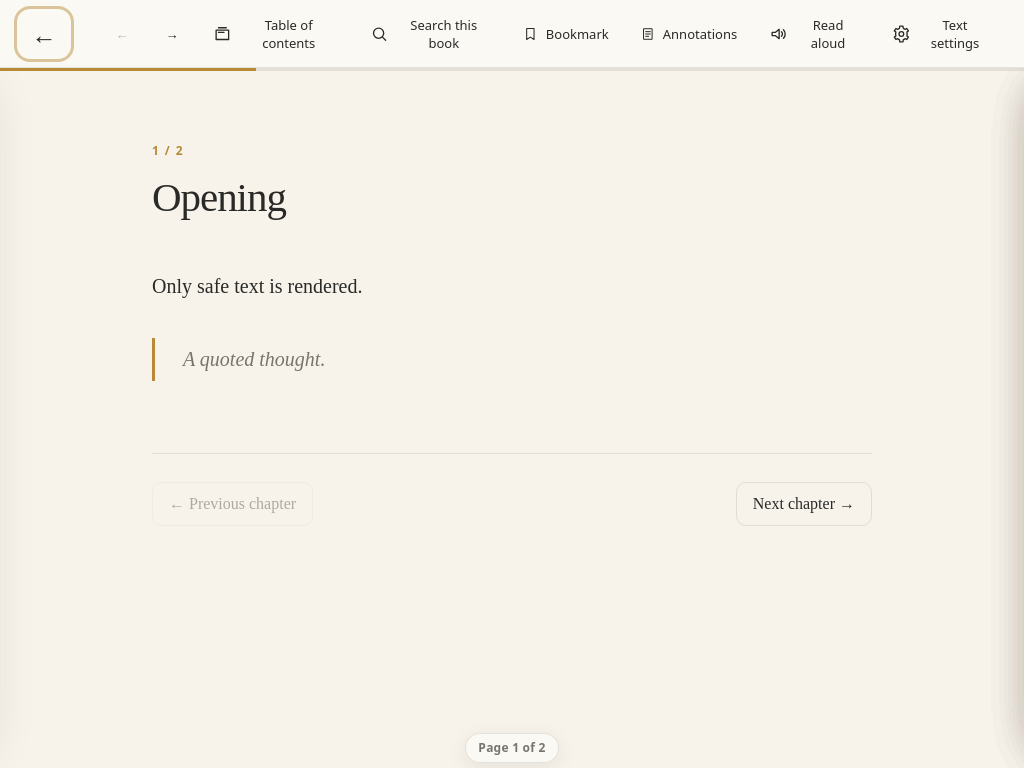
Test: ReaderScreen › hides cloud providers when credentials cannot be protected
Click the button "Read aloud".
click(815, 34)  # box [756,12,873,56]
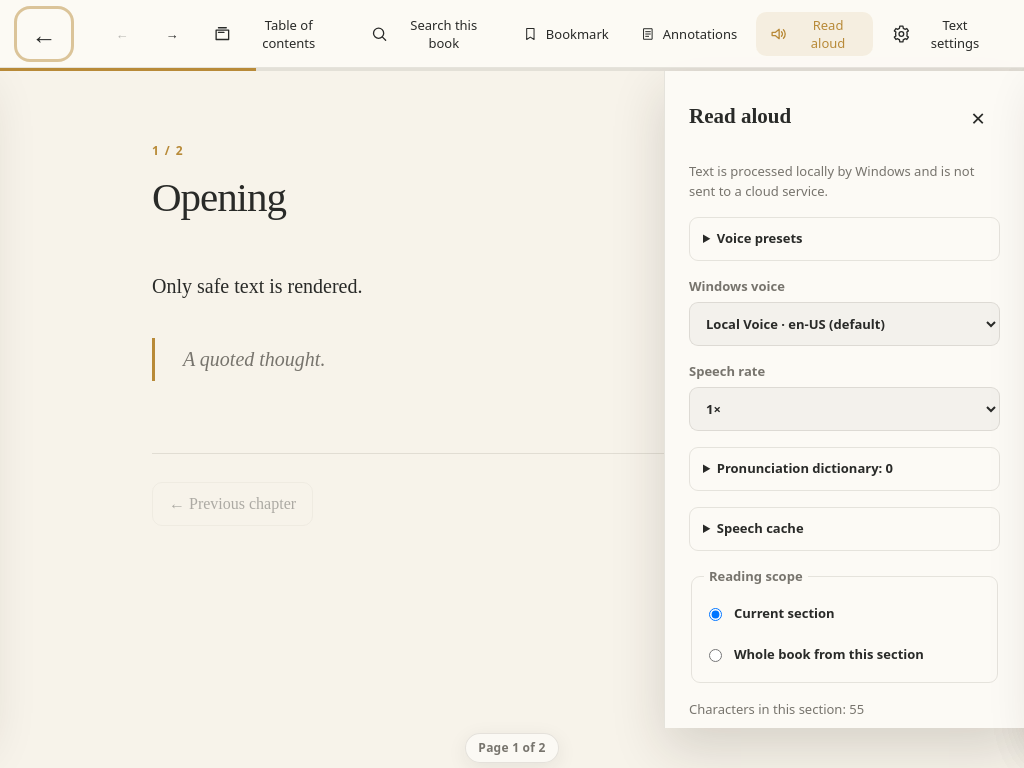
Expected: the dropdown labelled "Windows voice" shows "Local Voice · en-US (default)", [689,302,1000,346]
